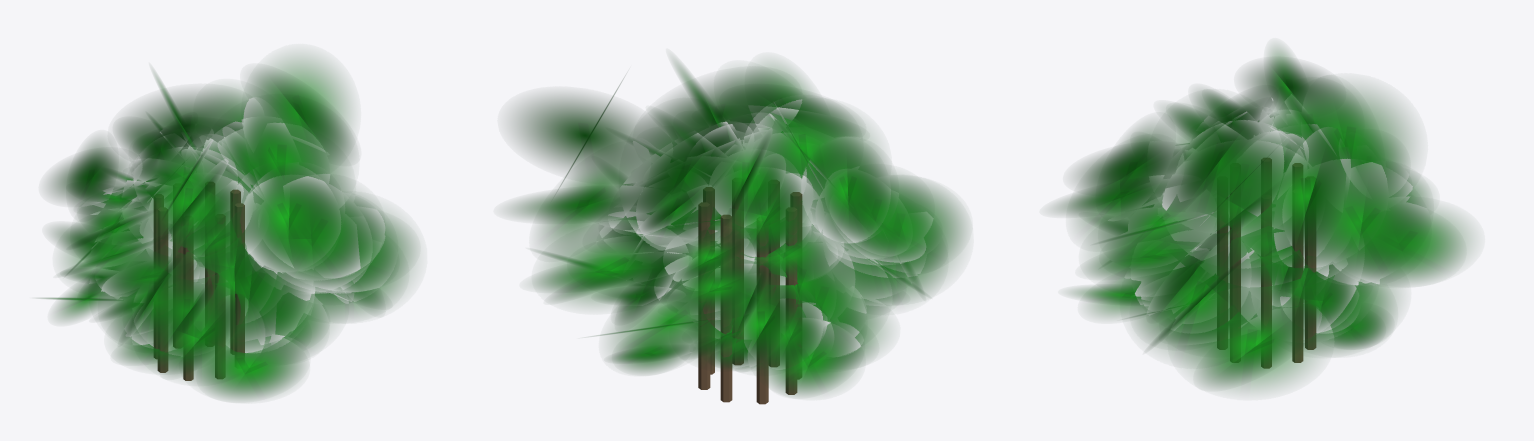
Rendered from shrub.glb.
3 views of the same model, side by side, from view 1: azimuth 30°, elevation 25°; view 2: azimuth 150°, elevation 25°; view 3: azimuth 270°, elevation 25° (orthographic). The views are drawn at different scales.
Visible parts, largest first — view 1: Plane.119; view 2: Plane.119; view 3: Plane.119.
Part boxes in pixels (bbox=[...]): Plane.119: bbox=[39, 54, 419, 401]; Plane.119: bbox=[507, 58, 968, 404]; Plane.119: bbox=[1051, 45, 1472, 391].
Size of the model in its own units: 2.12 by 1.41 by 2.29.
2 materials, 1 textured.
